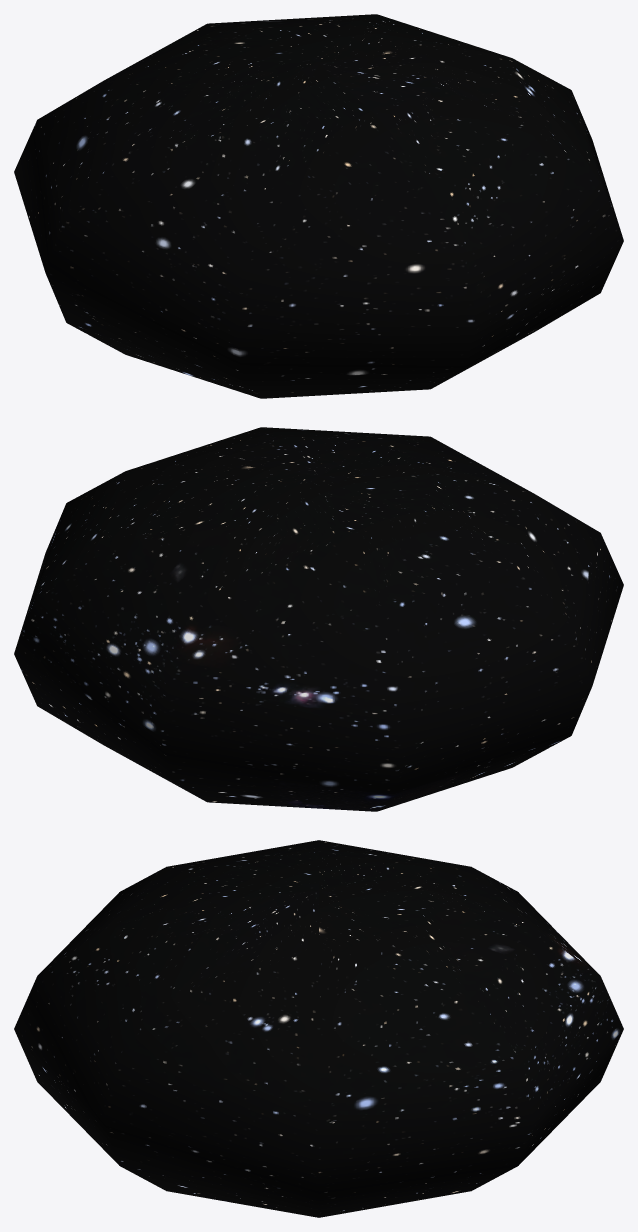
File: rubik.obj
3 renders of one model, top to bottom at view 1: azimuth 30°, elevation 25°; view 2: azimuth 150°, elevation 25°; view 3: azimuth 270°, elevation 25°, orthographic. The views are drawn at different scales.
Visible parts, largest first — view 1: Background.000; view 2: Background.000; view 3: Background.000.
Boxes of the visible parts, x1,y1,x2,y2 form: Background.000: (14, 14, 623, 398); Background.000: (14, 427, 623, 811); Background.000: (14, 840, 623, 1217).
Size of the model in its own units: 20 by 10 by 20.
Materials: 8 (1 with a texture image).
